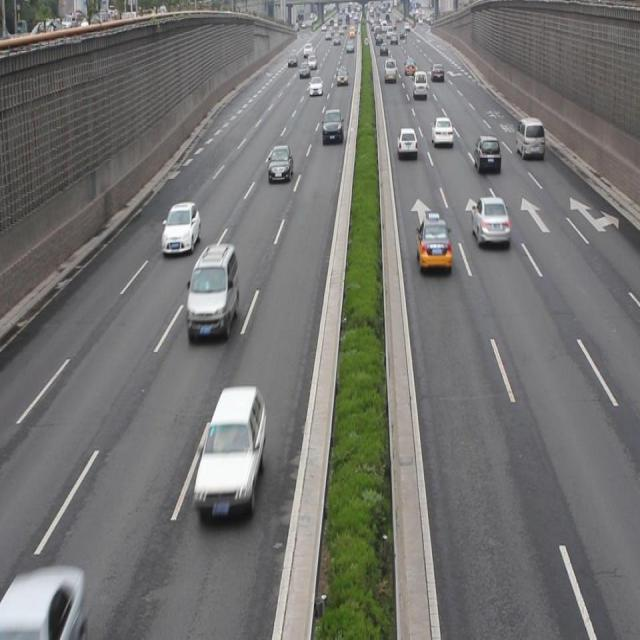car: (196, 385, 266, 515), (1, 564, 82, 640), (162, 201, 201, 255), (470, 196, 510, 246), (416, 215, 451, 272), (473, 134, 500, 174), (268, 143, 293, 184), (321, 108, 343, 143), (430, 116, 453, 148), (396, 125, 417, 157)
truck: (188, 244, 239, 337), (515, 115, 543, 159)
